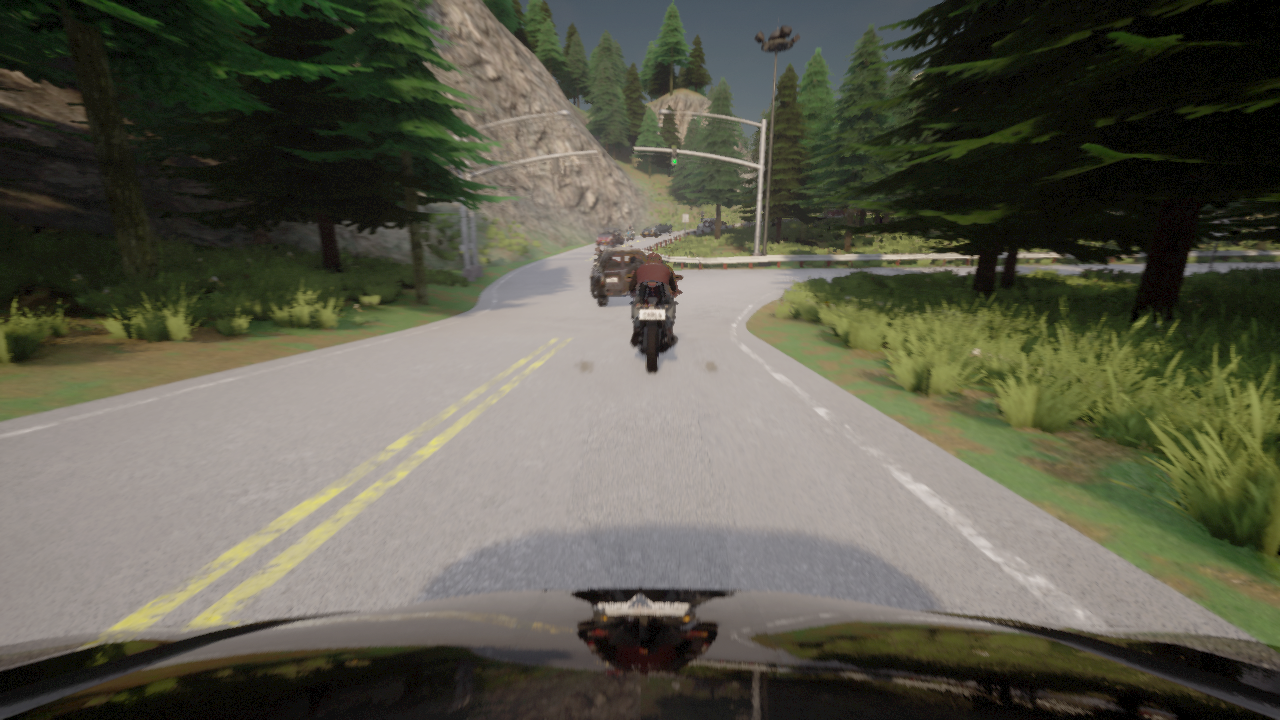cyclist: (0, 588, 1279, 719), (625, 274, 682, 372), (590, 246, 646, 305), (595, 227, 623, 246), (641, 222, 672, 235), (696, 218, 726, 229), (827, 204, 855, 215), (593, 250, 601, 263), (626, 229, 633, 239)
